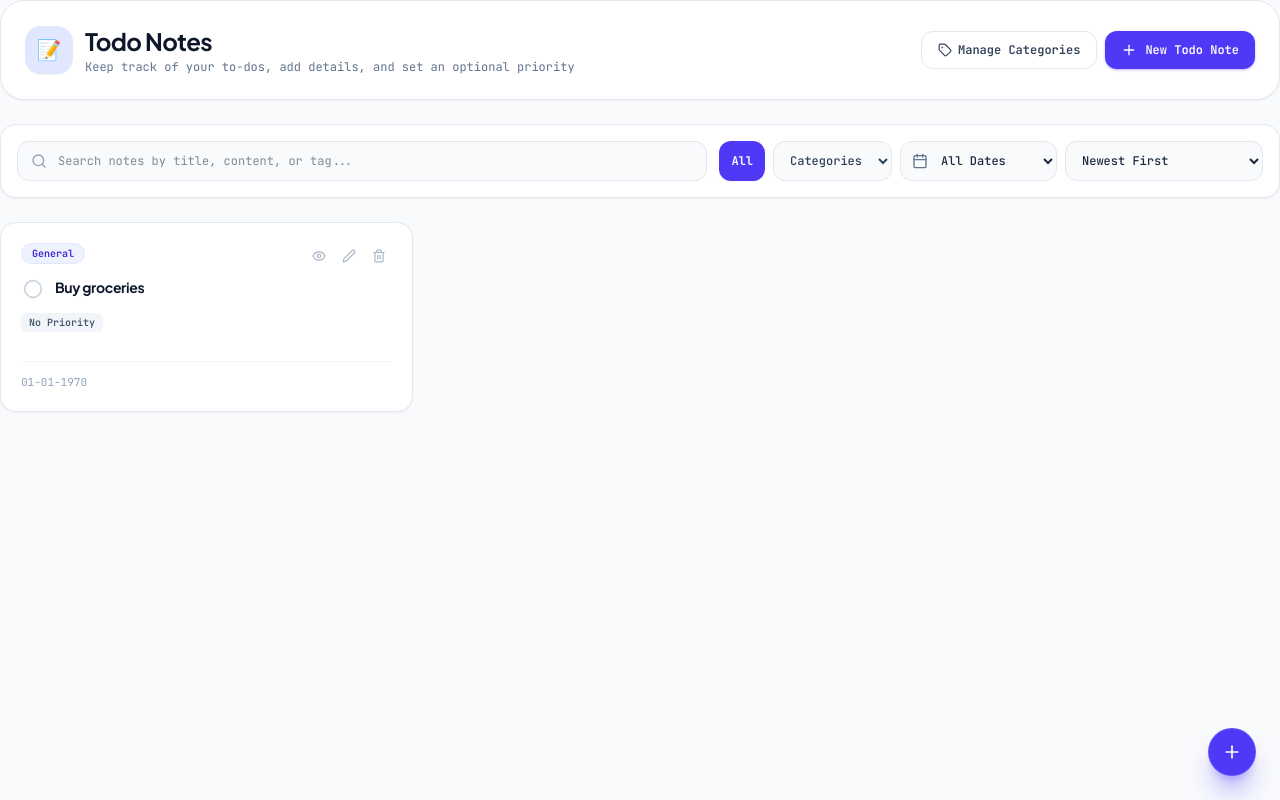
Scenario: keeps the note pending when saving completion fails
Step 1. Click the checkbox named "Mark Buy groceries complete" → (33, 289), box [21, 277, 45, 301]
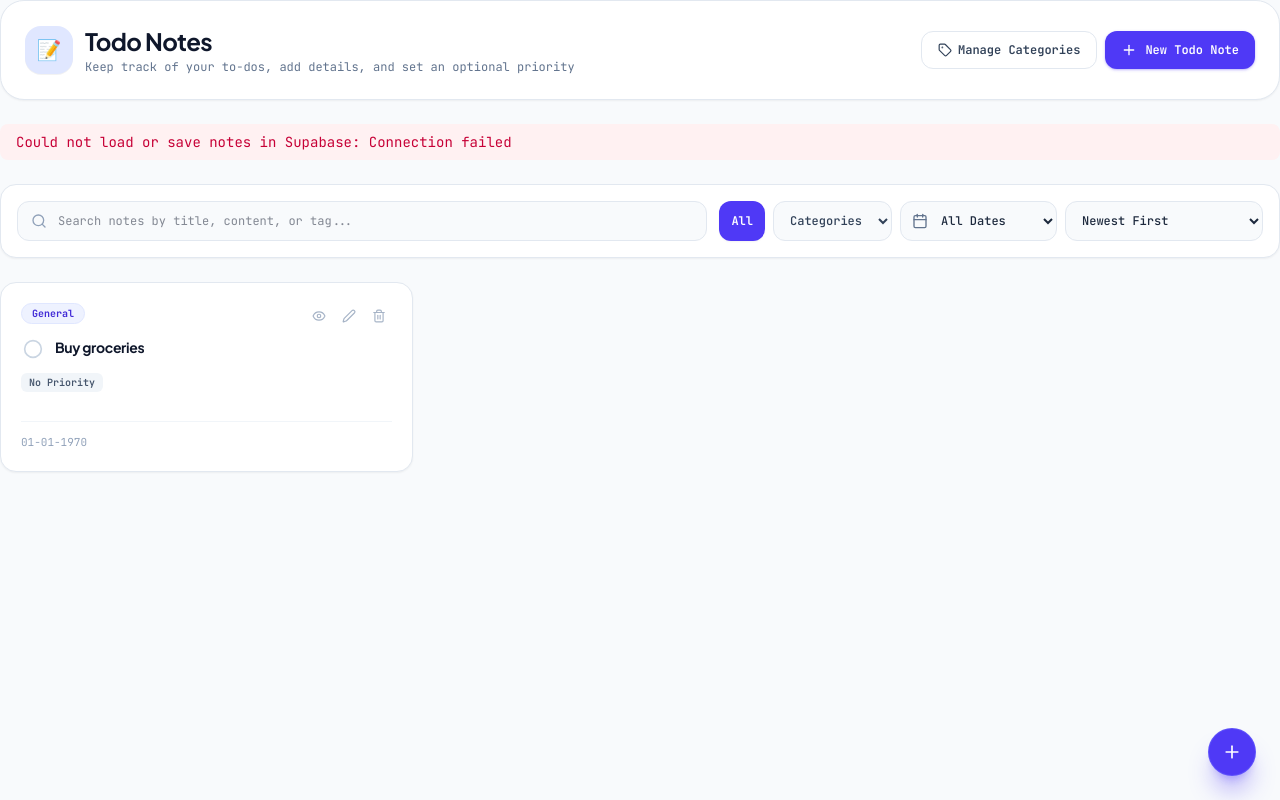
Check: the checkbox named "Mark Buy groceries complete" is not checked, box [21, 337, 45, 361]
Check: the message shows "Connection failed", box [369, 133, 512, 151]
